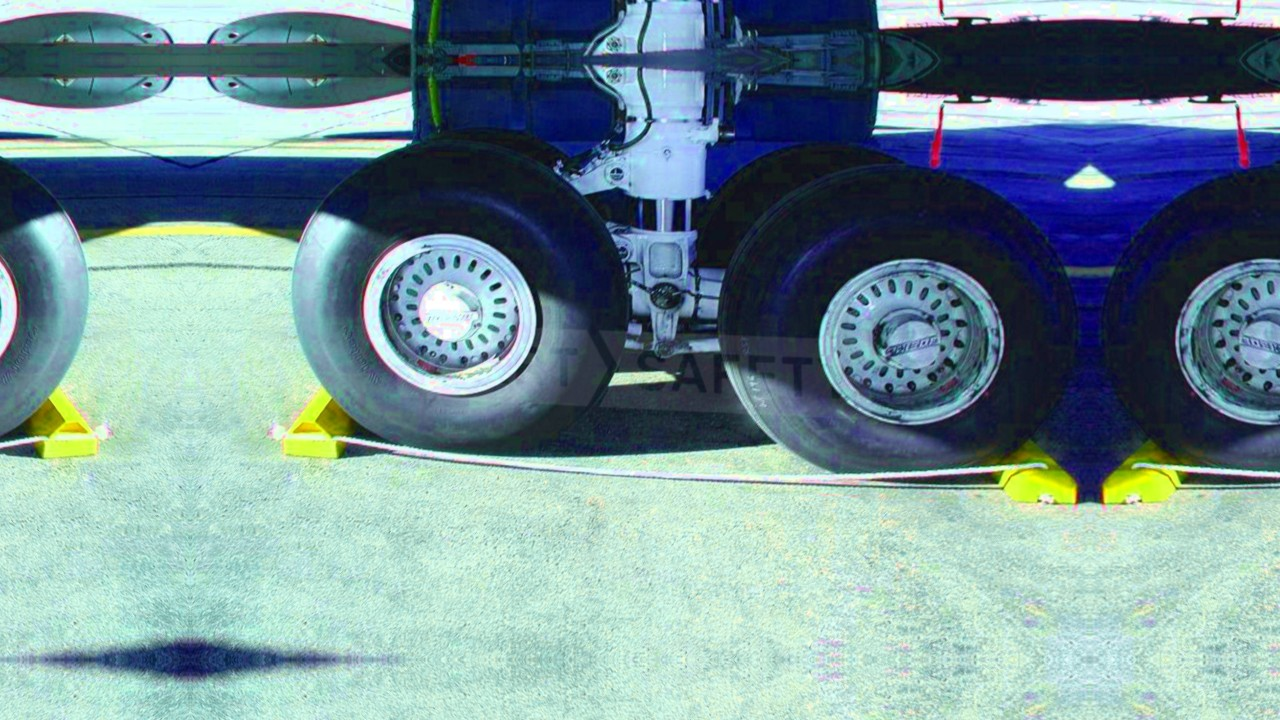chock: (983, 411, 1086, 510), (1094, 411, 1197, 510), (16, 362, 96, 462), (284, 362, 364, 462)
wheel: (712, 158, 1082, 483), (288, 132, 623, 456), (1098, 158, 1280, 483), (0, 132, 92, 456), (694, 140, 911, 275), (426, 124, 579, 169)
